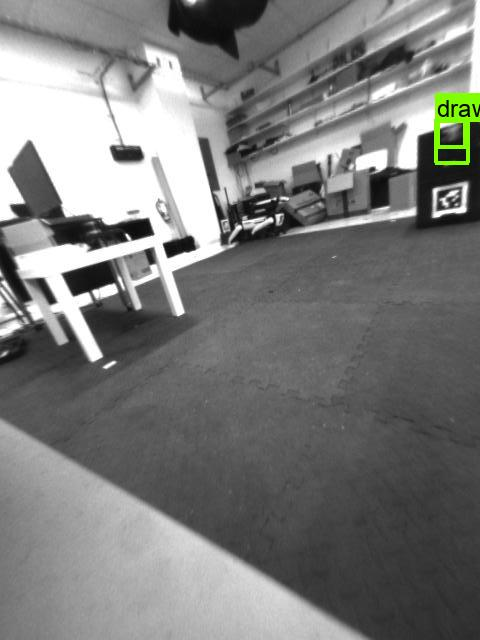drawer: (439, 124, 464, 145)
